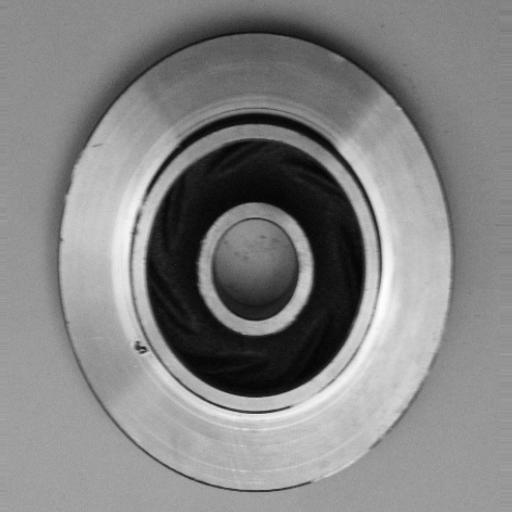crack: (125, 333, 155, 362)
unpolished_casting: (57, 27, 459, 493)
